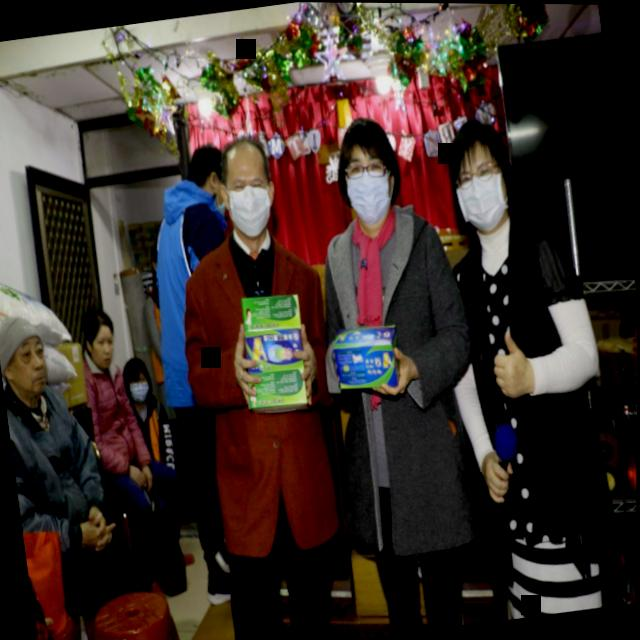Mask: (319, 102, 419, 234), (439, 105, 528, 239), (210, 126, 282, 245), (118, 348, 160, 415)
NO-Mask: (0, 316, 59, 407), (76, 305, 126, 376)
